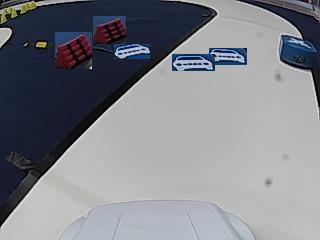prop: (280, 33, 318, 69)
